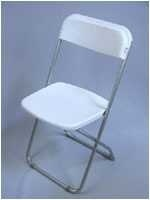obstacle: (21, 14, 132, 192)
